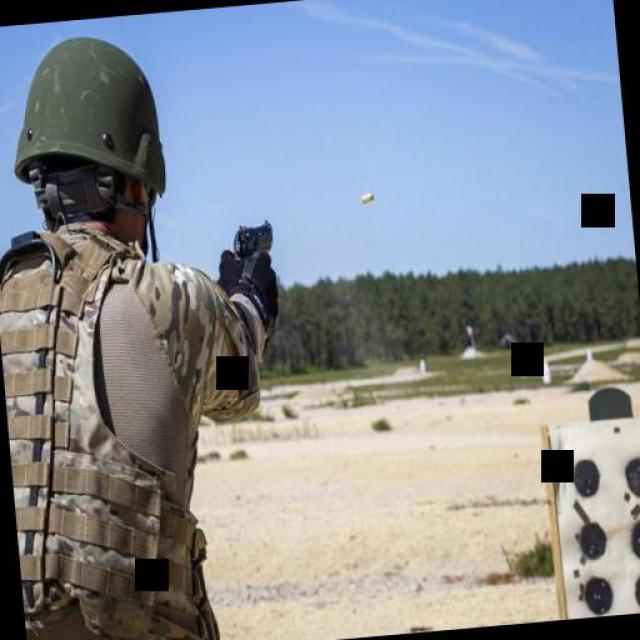gun: (226, 212, 278, 268)
